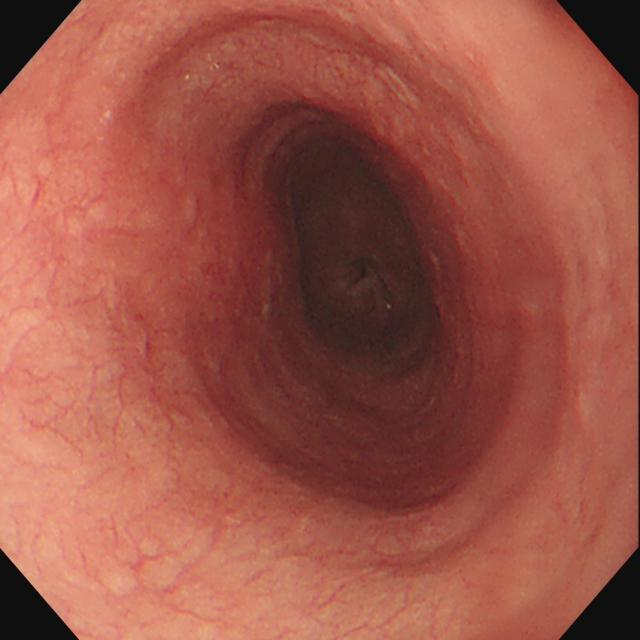E: (290, 152, 440, 361)
